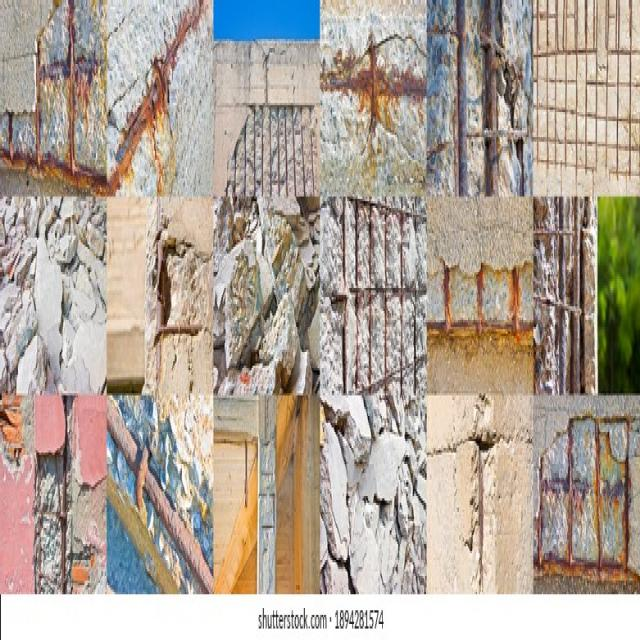corrosion: (0, 4, 640, 593), (428, 396, 471, 588), (106, 197, 145, 378), (427, 193, 532, 258), (497, 406, 533, 587), (179, 31, 213, 194), (429, 345, 533, 398), (213, 440, 243, 596), (0, 477, 33, 593), (0, 0, 36, 105), (321, 6, 423, 41), (108, 35, 153, 102), (77, 397, 104, 479), (108, 0, 176, 31), (171, 197, 213, 243), (36, 400, 65, 448)
